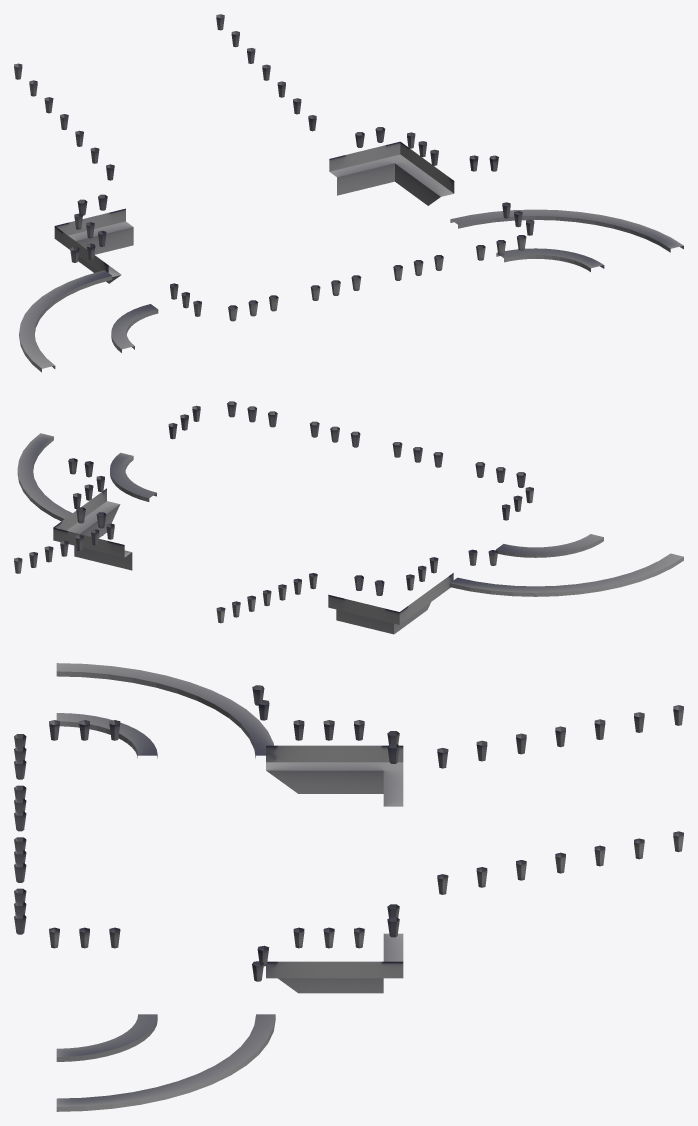
Rendered from Pillar_03.FBX.
3 views of the same model, one above another, from view 1: azimuth 30°, elevation 25°; view 2: azimuth 150°, elevation 25°; view 3: azimuth 270°, elevation 25° (orthographic). The views are drawn at different scales.
Visible parts, largest first — view 1: Pillar_03; view 2: Pillar_03; view 3: Pillar_03.
Boxes of the visible parts, left/top/right/bottom form: Pillar_03: left=14, top=14, right=683, bottom=372; Pillar_03: left=14, top=401, right=683, bottom=634; Pillar_03: left=14, top=663, right=683, bottom=1111.
Size of the model in its own units: 48.28 by 7.86 by 34.09.
